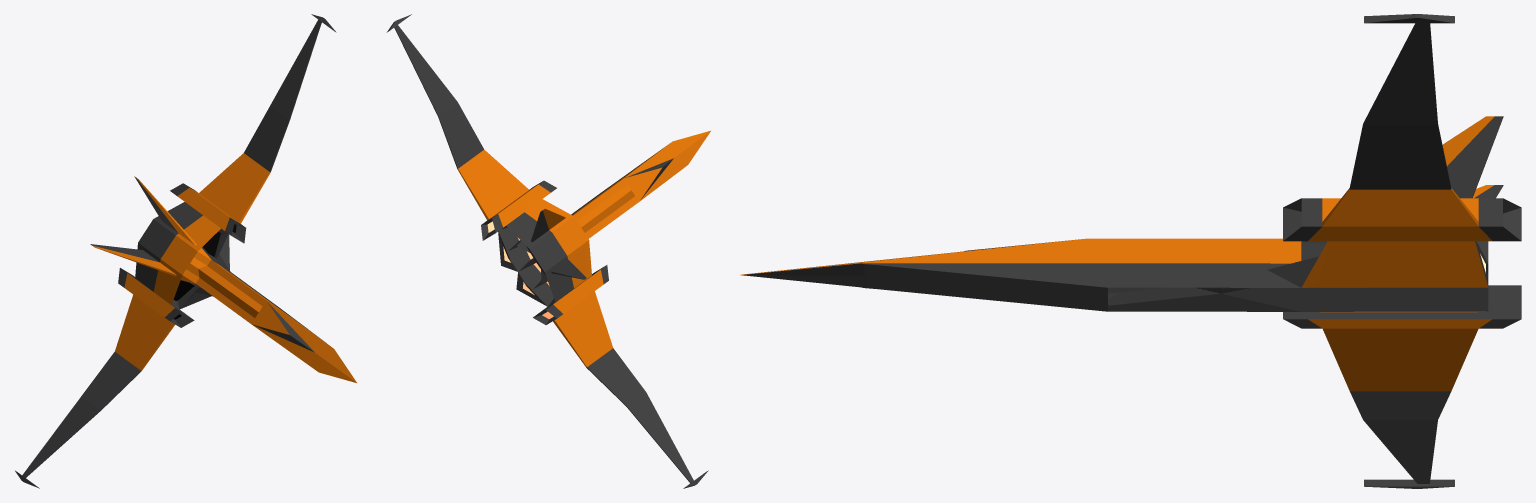
File: spaceship.glb
3 views of the same model, side by side, from view 1: azimuth 30°, elevation 25°; view 2: azimuth 150°, elevation 25°; view 3: azimuth 270°, elevation 25° (orthographic). The views are drawn at different scales.
Visible parts, largest first — view 1: Cube; view 2: Cube; view 3: Cube.
Part boxes in pixels (box(x1,y1,x2,y2)): Cube: box(15, 14, 356, 488); Cube: box(386, 14, 710, 488); Cube: box(740, 14, 1521, 488).
Bounding box in the file's own units: 24.8 × 30.65 × 28.63.
